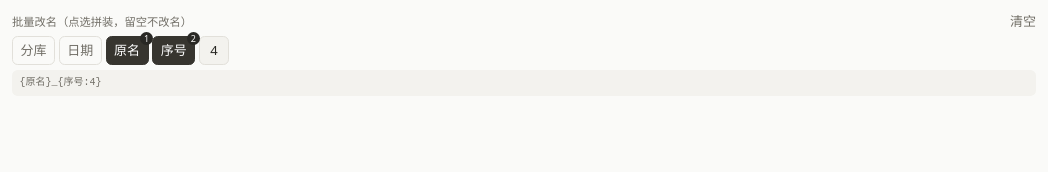
Scenario: RenameBuilder 受控同步 › 父级清空时立即移除选中模板、位数输入和预览
The image size is (1048, 172).
Expected: the text "{原名}_{序号:4}" is shown, [20,77,102,88]
Expected: the field titled "序号位数（1-9）" holds "4", [199,36,229,65]
Click the button "清空": click(1023, 21) [1010,12,1036,31]
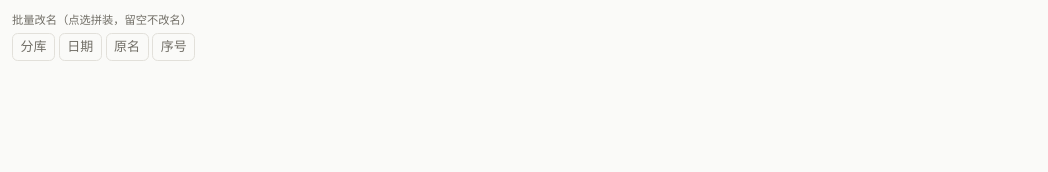
Expected: the text "{原名}_{序号:4}" is gone
Expected: the field titled "序号位数（1-9）" is gone
